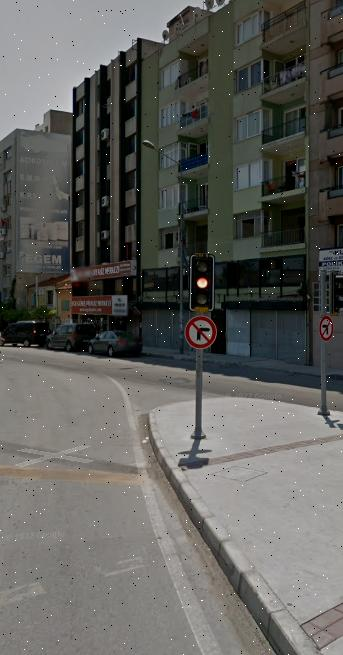leftturnsareforbidden: (320, 315, 334, 341)
rightturnsareforbidden: (184, 316, 216, 348)
yellowlight: (191, 254, 213, 305)
